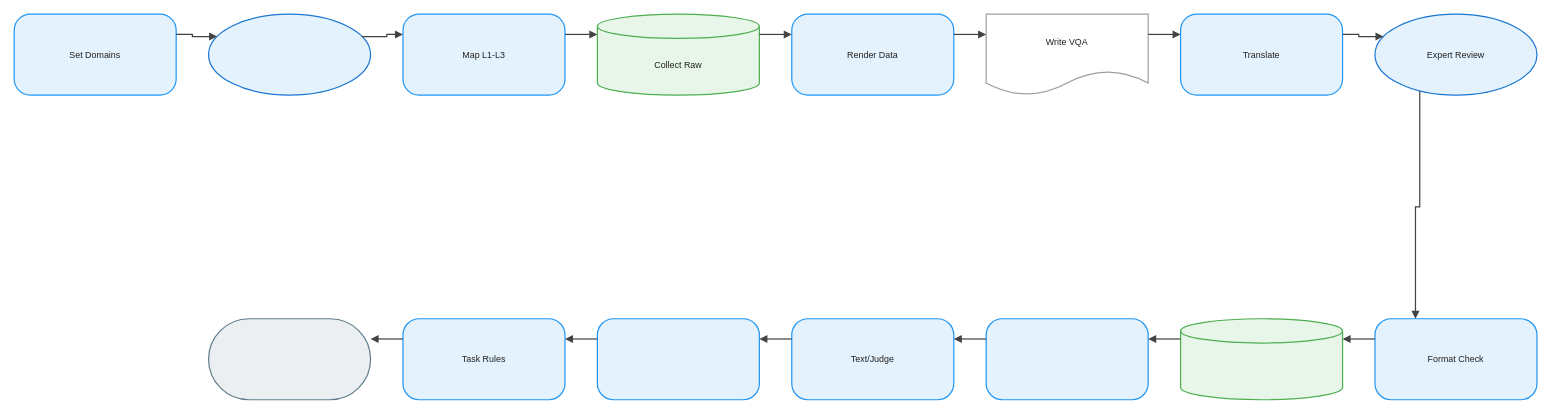
This 1552x415 diagram has some shape labels left out. Here are the shapes that lost their labels. From the top down, the centre of each, then its label:
At (x=289, y=54): "Recruit Team".
At (x=289, y=359): "Report Slices".
At (x=678, y=359): "Execute & IoU".
At (x=1066, y=359): "Prompt Model".
At (x=1261, y=359): "Freeze 830".
